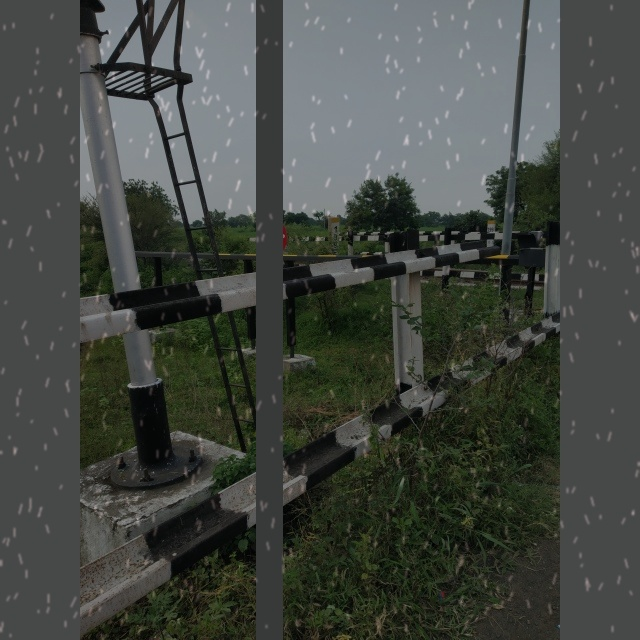Stop: (263, 220, 288, 255)
